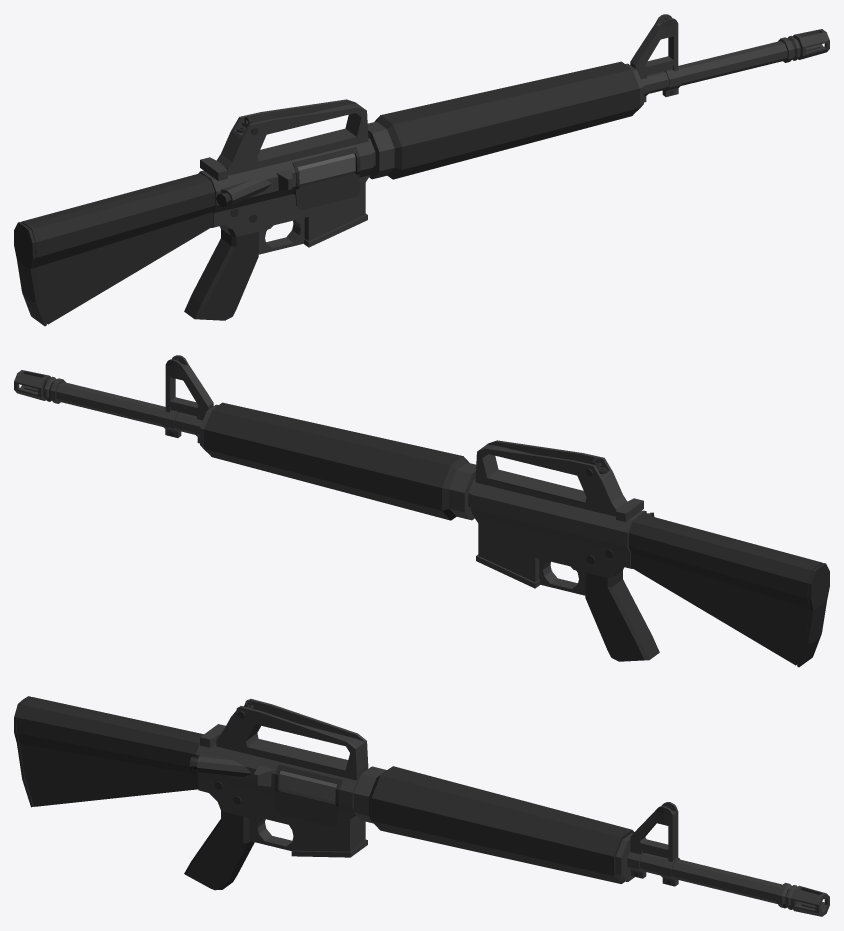
File: AssaultRifle5_01.fbx
3 renders of one model, top to bottom at view 1: azimuth 30°, elevation 25°; view 2: azimuth 150°, elevation 25°; view 3: azimuth 330°, elevation 25°, orthographic.
Visible parts, largest first — view 1: AssaultRifle5_01; view 2: AssaultRifle5_01; view 3: AssaultRifle5_01.
Part boxes in pixels (box(x1,y1,x2,y2)): AssaultRifle5_01: box(14, 14, 829, 326); AssaultRifle5_01: box(14, 355, 829, 667); AssaultRifle5_01: box(14, 696, 829, 916).
Bounding box in the file's own units: 1.04 × 0.2381 × 0.0756.
